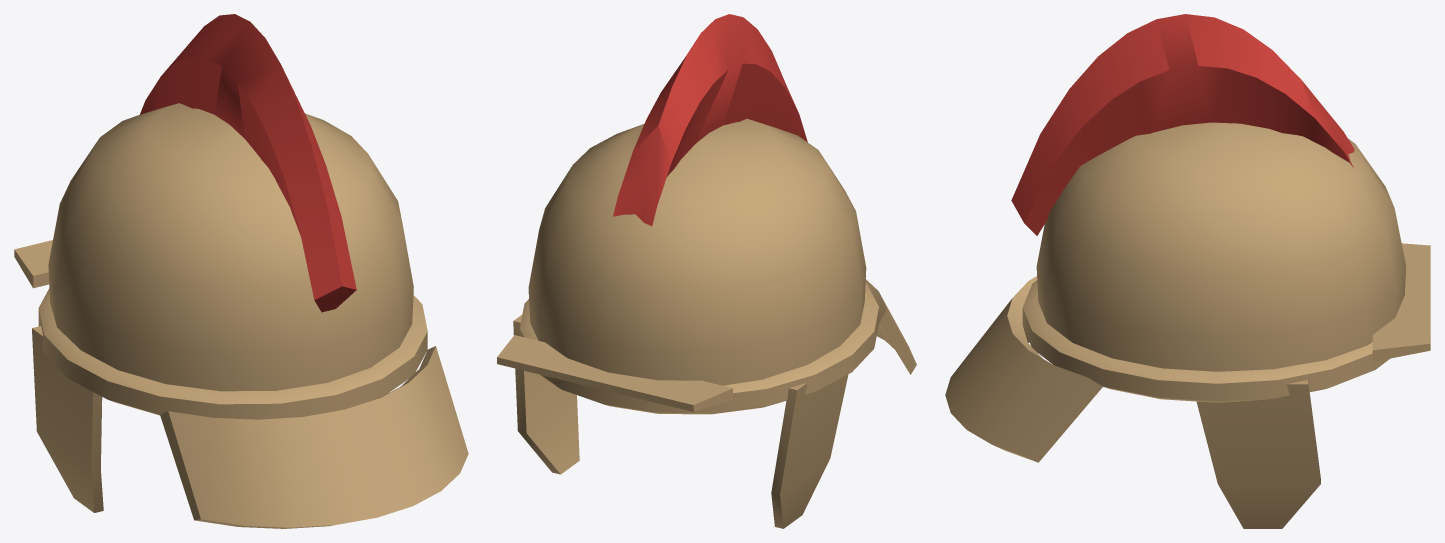
Rendered from galea.glb.
The picture shows the model from 3 angles, left to right: view 1: azimuth 30°, elevation 25°; view 2: azimuth 150°, elevation 25°; view 3: azimuth 270°, elevation 25°; orthographic projection. The views are drawn at different scales.
Parts seen in each view (by area): view 1: OUT; view 2: OUT; view 3: OUT.
Part boxes in pixels (<box>): OUT: <box>14,14,468,528</box>; OUT: <box>497,14,916,528</box>; OUT: <box>945,14,1430,528</box>.
Size of the model in its own units: 0.28 by 0.3909 by 0.3762.
